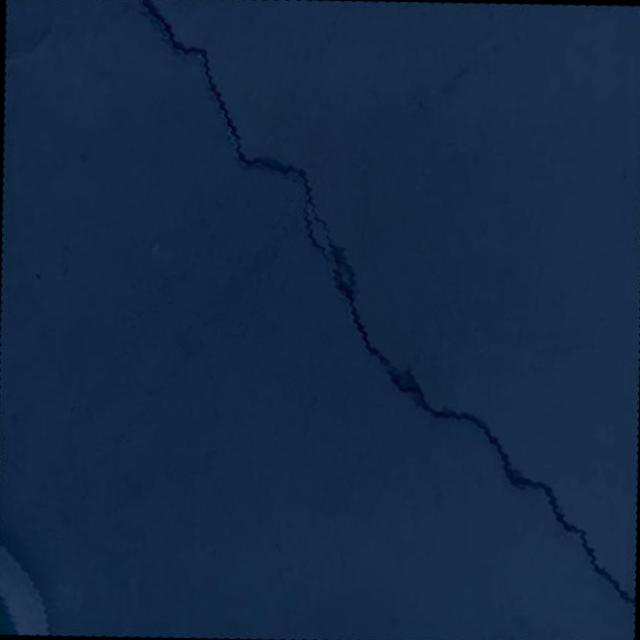crack: (130, 0, 640, 605)
